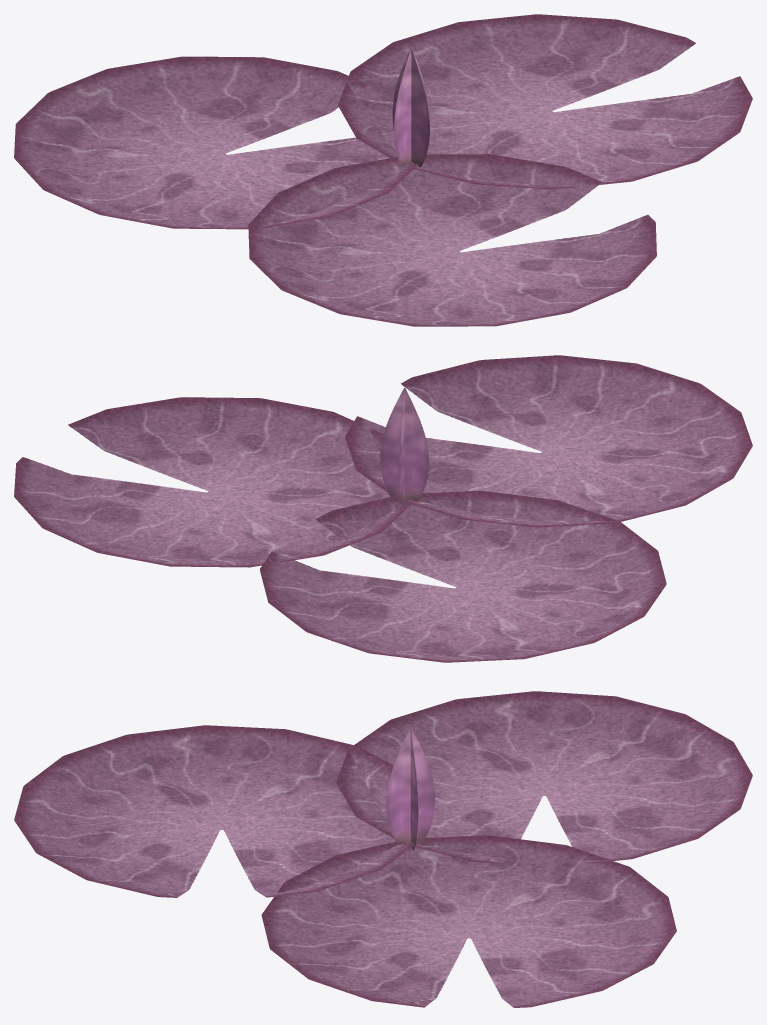
Rendered from mm8_deco_plant38.glb.
3 renders of one model, top to bottom at view 1: azimuth 30°, elevation 25°; view 2: azimuth 150°, elevation 25°; view 3: azimuth 270°, elevation 25°, orthographic. The views are drawn at different scales.
Parts seen in each view (by area): view 1: Plant; view 2: Plant; view 3: Plant.
Part boxes in pixels (box(x1,y1,x2,y2)): Plant: box(14, 14, 752, 326); Plant: box(14, 355, 752, 662); Plant: box(14, 691, 752, 1007).
Bounding box in the file's own units: 1.3 × 0.26 × 1.28.
Materials: 1 (1 with a texture image).
